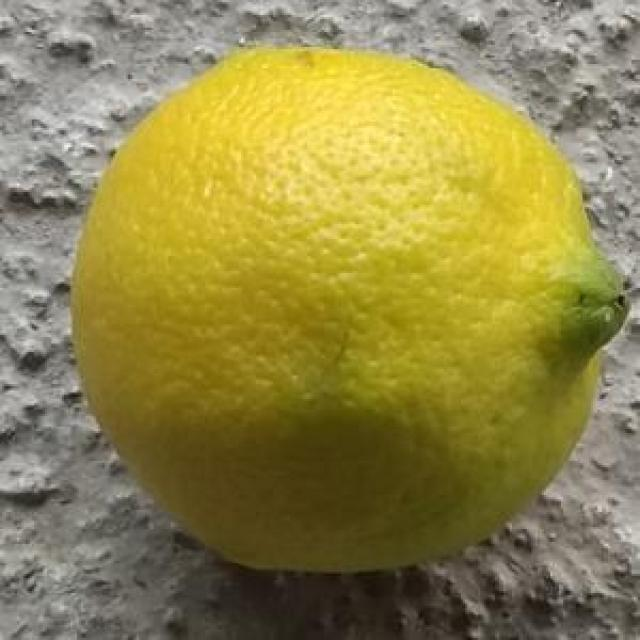lemon: (70, 48, 630, 572)
